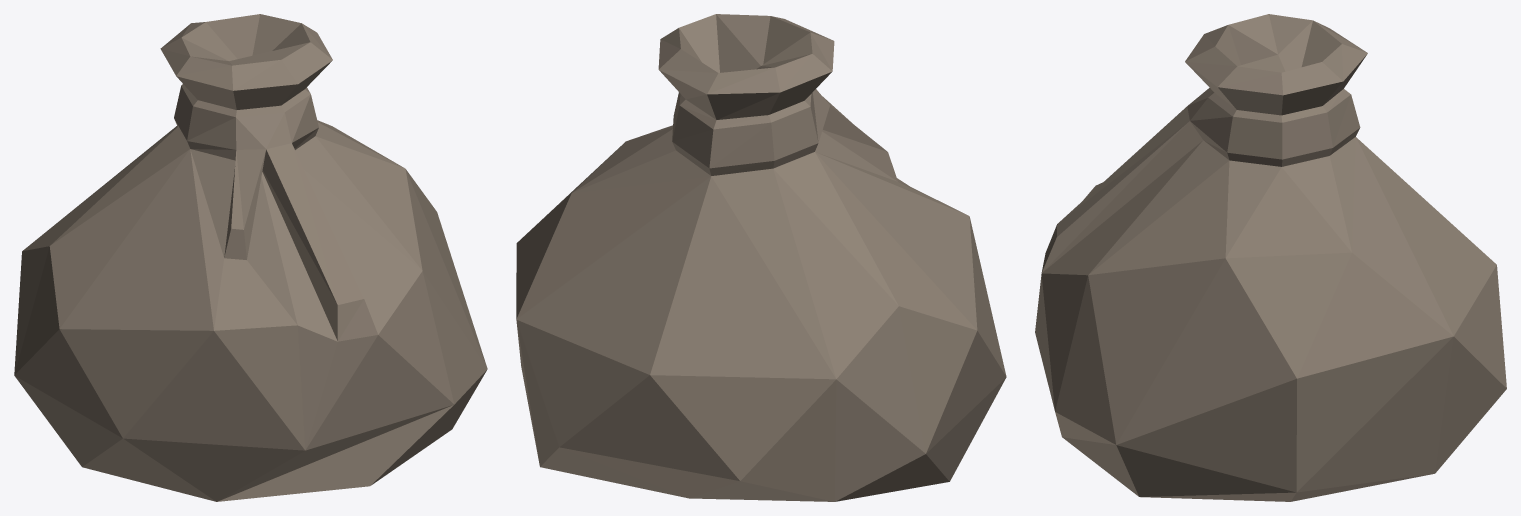
File: SM_Item_Bag_01.glb
3 renders of one model, left to right at view 1: azimuth 30°, elevation 25°; view 2: azimuth 150°, elevation 25°; view 3: azimuth 270°, elevation 25°, orthographic. The views are drawn at different scales.
Parts seen in each view (by area): view 1: SM_Item_Bag_01_00; view 2: SM_Item_Bag_01_00; view 3: SM_Item_Bag_01_00.
Part boxes in pixels (box(x1,y1,x2,y2)): SM_Item_Bag_01_00: box(14, 14, 487, 501); SM_Item_Bag_01_00: box(516, 14, 1006, 501); SM_Item_Bag_01_00: box(1035, 14, 1506, 501).
Bounding box in the file's own units: 0.2009 × 0.179 × 0.1994.
Materials: 1 (1 with a texture image).
